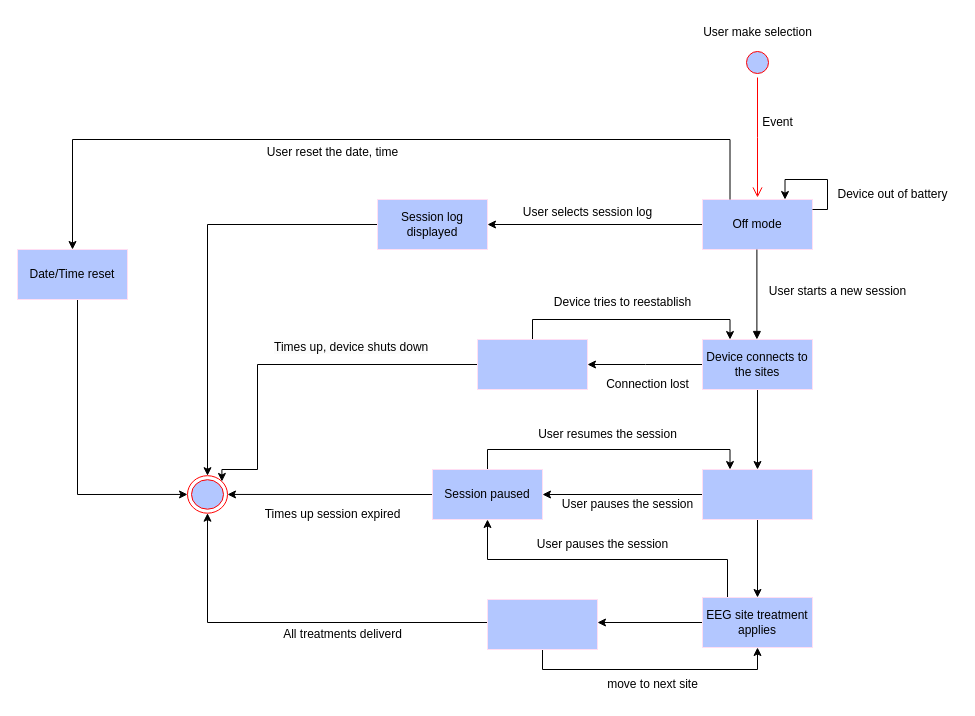
The diagram is 975 pixels wide and 716 high, and some of its shapes have lost their labels. The shapes that lost their labels are listed below. From the top down, each one's centre as x and y in pixels, then its label:
At (x=532, y=364): "Device try to reconnect".
At (x=757, y=494): "Timer begins, software calculates a baseline".
At (x=542, y=624): "EEG treatment delivered".
